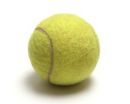tennis ball: (27, 12, 102, 88)
